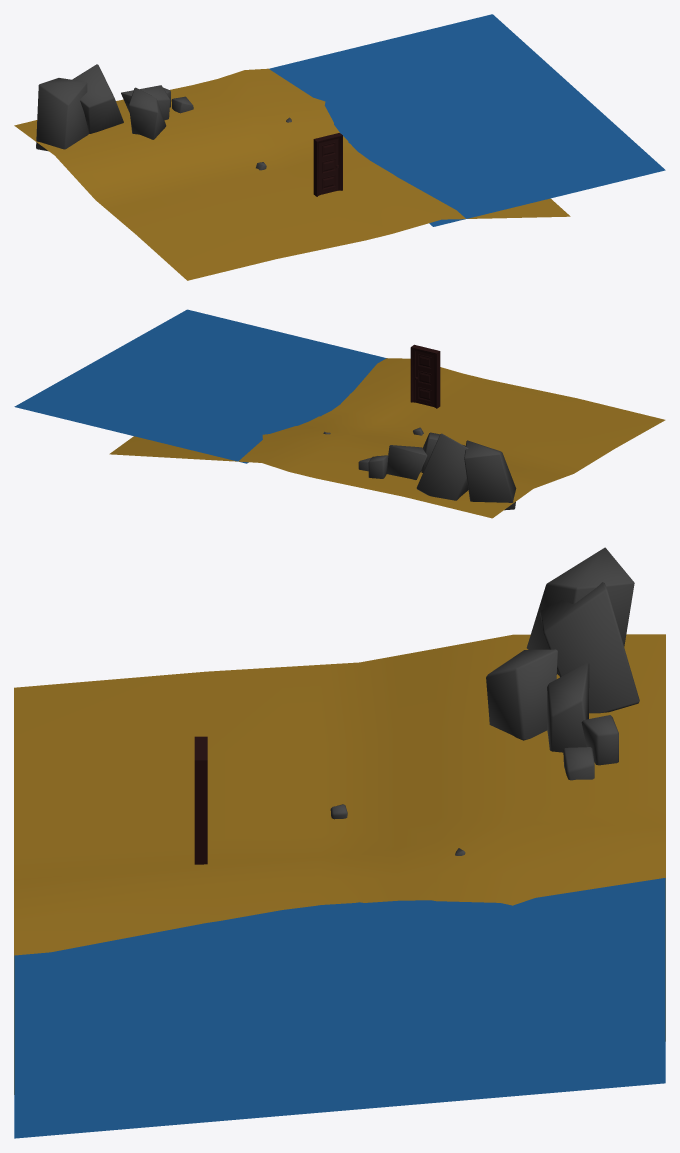
Rendered from all.fbx.
3 views of the same model, one above another, from view 1: azimuth 30°, elevation 25°; view 2: azimuth 150°, elevation 25°; view 3: azimuth 270°, elevation 25° (orthographic). The views are drawn at different scales.
Visible parts, largest first — view 1: Plane007, Plane009, Box013, Box003, Plane006; view 2: Plane009, Plane007, Box013, Box003, Plane006; view 3: Plane007, Plane009, Box013, Plane006.
Part boxes in pixels (x1,y1,x2,y2): Plane007: (14, 68, 570, 280); Plane009: (269, 14, 665, 226); Box013: (36, 64, 291, 170); Box003: (319, 139, 337, 194); Plane006: (313, 133, 342, 196); Plane009: (14, 309, 386, 463); Plane007: (109, 358, 665, 518); Box013: (323, 427, 516, 510); Box003: (415, 351, 433, 406); Plane006: (410, 344, 440, 408); Plane007: (14, 634, 665, 1094); Plane009: (14, 878, 665, 1138); Box013: (330, 547, 639, 855); Plane006: (194, 736, 207, 864).
Bounding box in the file's own units: 19480 × 4456 × 12221.
